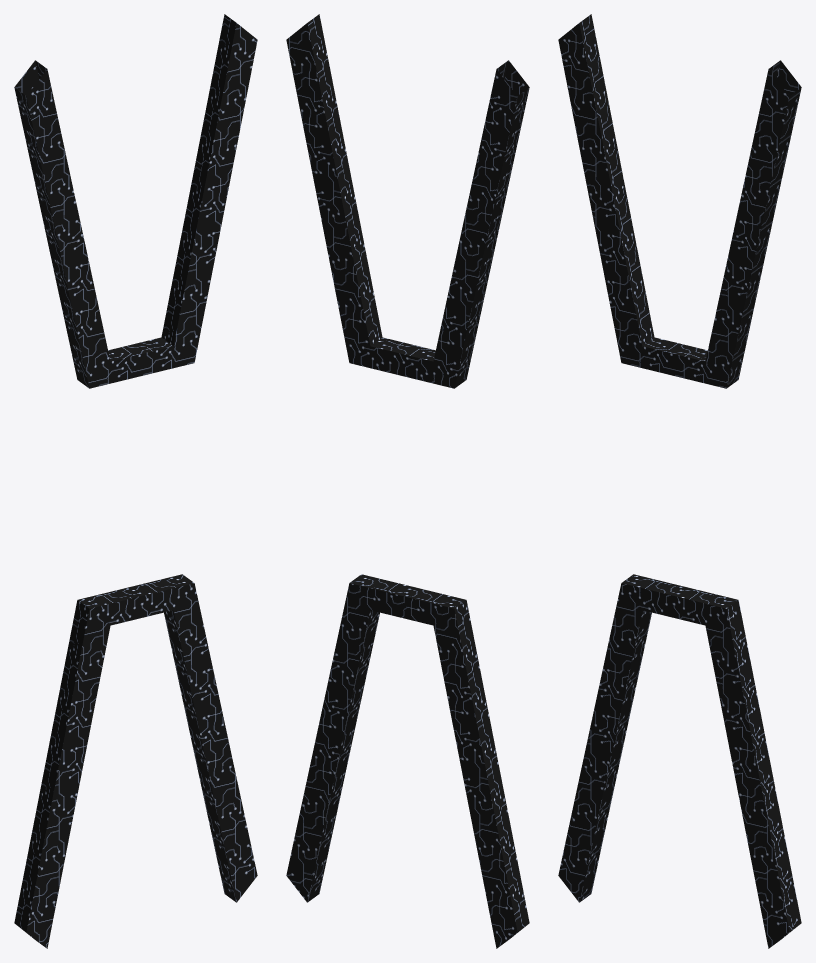
Rendered from SM_waveForm.FBX.
3 views of the same model, side by side, from view 1: azimuth 30°, elevation 25°; view 2: azimuth 150°, elevation 25°; view 3: azimuth 330°, elevation 25° (orthographic).
Parts seen in each view (by area): view 1: SM_waveForm; view 2: SM_waveForm; view 3: SM_waveForm.
Boxes of the visible parts, x1,y1,x2,y2 form: SM_waveForm: [14, 14, 257, 948]; SM_waveForm: [286, 14, 529, 948]; SM_waveForm: [558, 14, 801, 948].
Size of the model in its own units: 440 by 1600 by 40.
